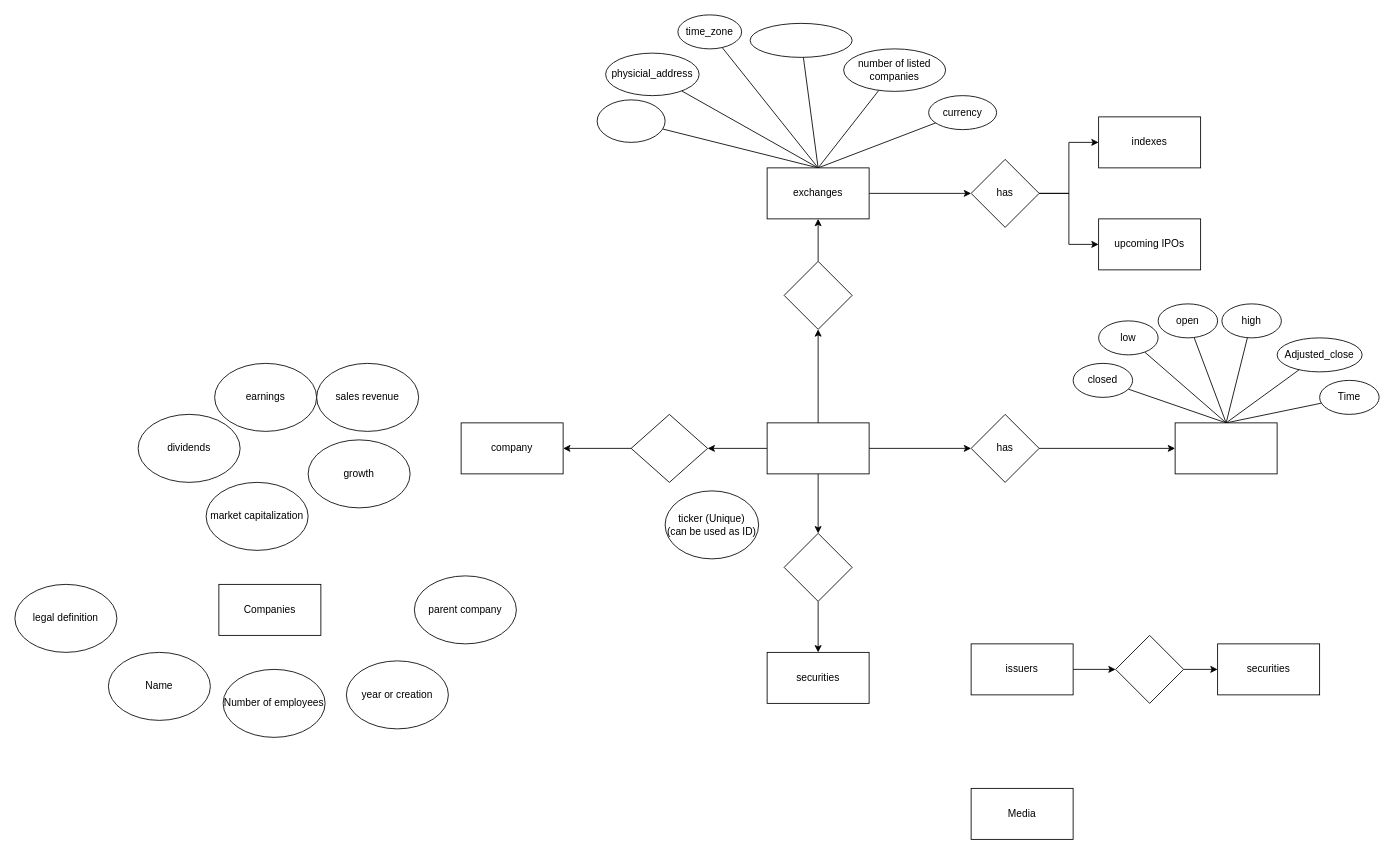
Some shapes in this 1394 by 854 pixel diagram are drawn without their labels. The centre of each missing label's shape, as x and y in pixels:
"are issued by" belongs at point 669,448.
"are listed on" belongs at point 817,295.
"Are type of" belongs at point 817,567.
"historical_prices" belongs at point 1225,448.
"issue" belongs at point 1149,669.
"market_capitalization" belongs at point 800,40.
"stock" belongs at point 817,448.
"year of creation" belongs at point 630,120.
